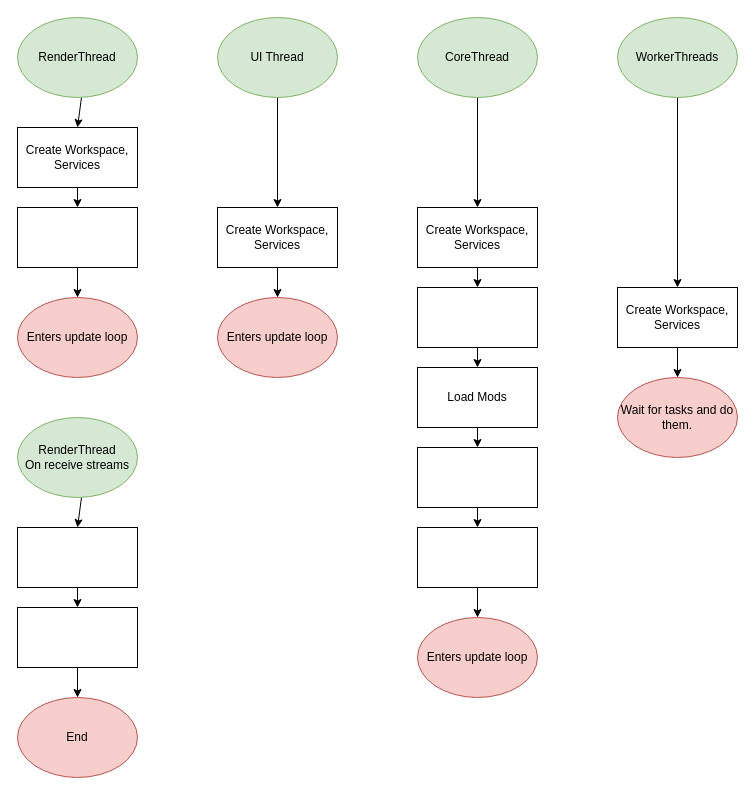
Image size: 755x795. Some labels were removed from this diagram. The centre of each missing label's shape, as x and y in pixels:
"Create CoreThread and UIThread" belongs at (77,237).
"Create Resource's" belongs at (77,557).
"Create WorkerThreads" belongs at (477,317).
"Get asset paths and load them" belongs at (477,557).
"Get boot asset paths and load them" belongs at (477,477).
"offloads resource handles" belongs at (77,637).
